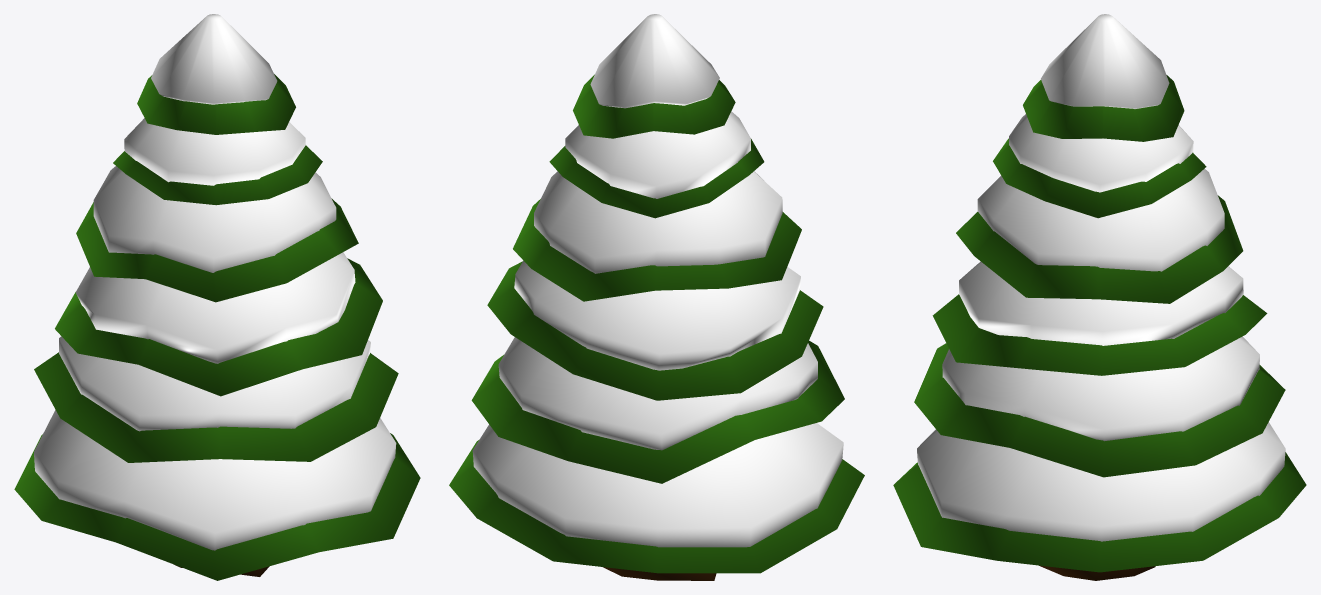
File: snow_tree.glb
The picture shows the model from 3 angles, left to right: view 1: azimuth 30°, elevation 25°; view 2: azimuth 150°, elevation 25°; view 3: azimuth 270°, elevation 25°; orthographic projection. The views are drawn at different scales.
Parts seen in each view (by area): view 1: tree; view 2: tree; view 3: tree.
Boxes of the visible parts, left/top/right/bottom form: tree: left=14, top=14, right=420, bottom=580; tree: left=449, top=14, right=864, bottom=580; tree: left=893, top=14, right=1306, bottom=580.
Size of the model in its own units: 455 by 651 by 455.
Materials: 1 (1 with a texture image).
